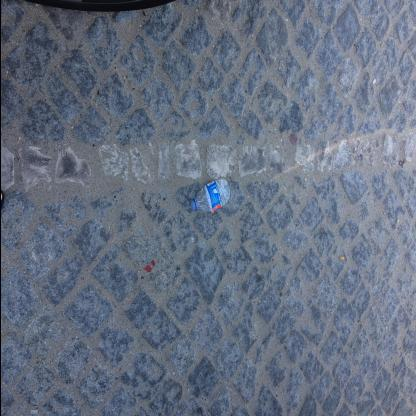plastik: (191, 180, 231, 215)
